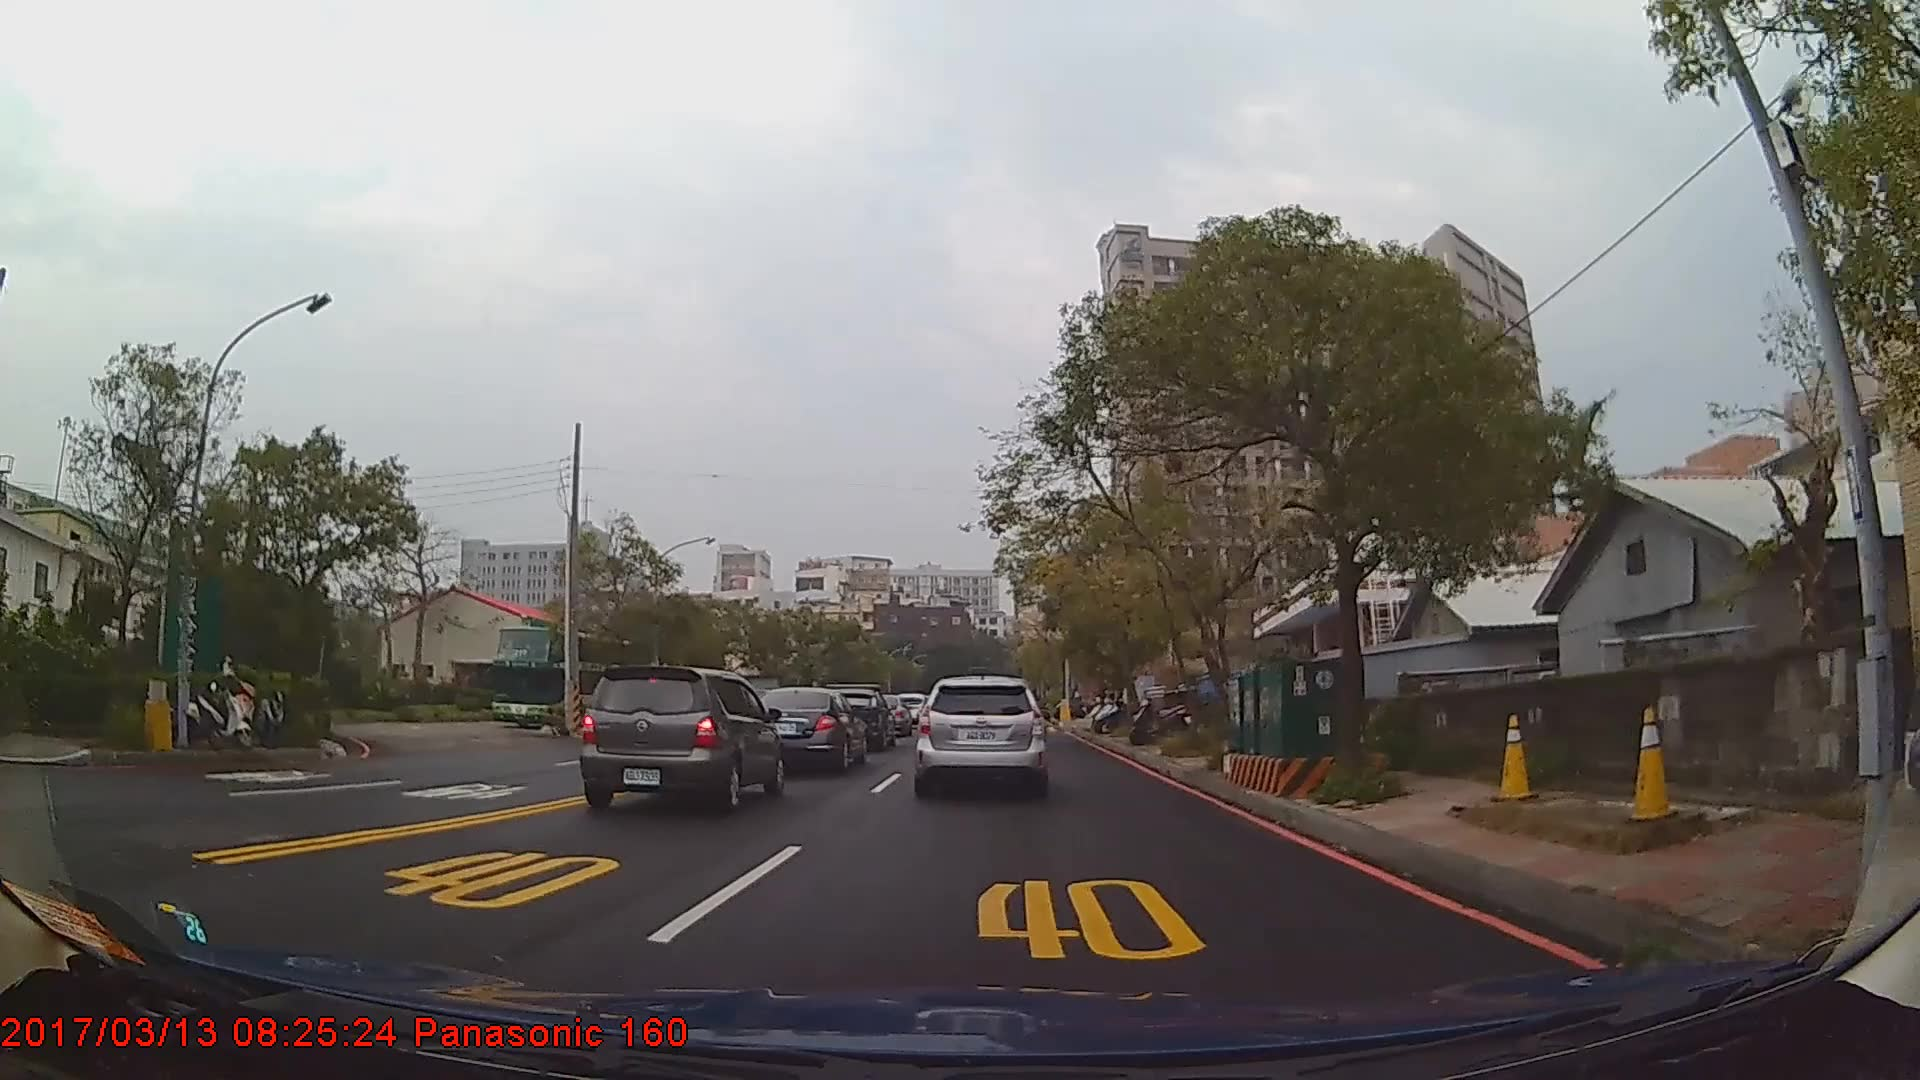vehicle: (578, 665, 785, 814), (491, 625, 661, 736), (914, 675, 1048, 795), (746, 684, 866, 777), (822, 688, 893, 752)
